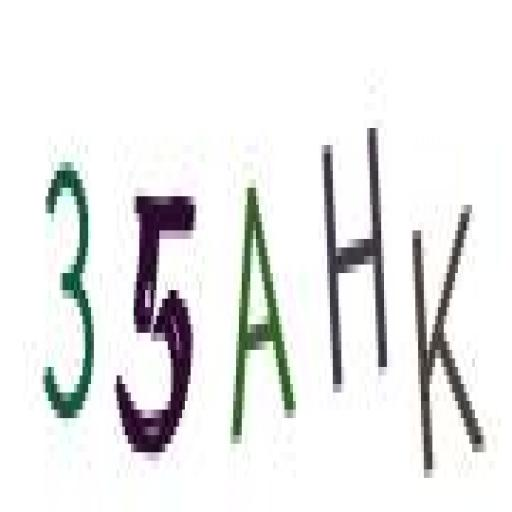3: (37, 144, 100, 438)
5: (114, 174, 202, 479)
A: (230, 165, 300, 454)
H: (320, 115, 392, 401)
K: (411, 190, 495, 483)
